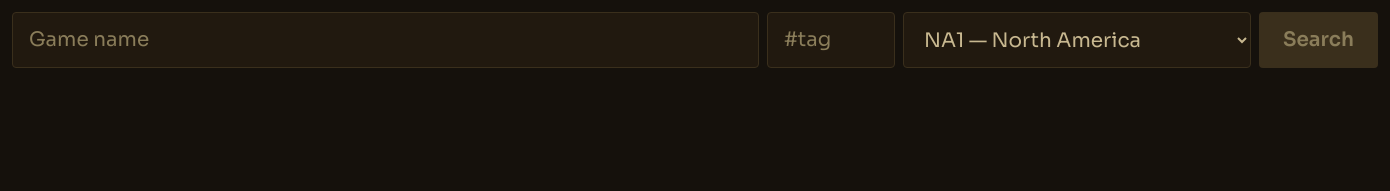
Test: <SearchBar /> › renders suggestions with tag lines once the debounced query resolves
Type "Fak" into the dropdown labelled "Game name".
click(385, 40); type("Fak")  # box [12,12,759,68]
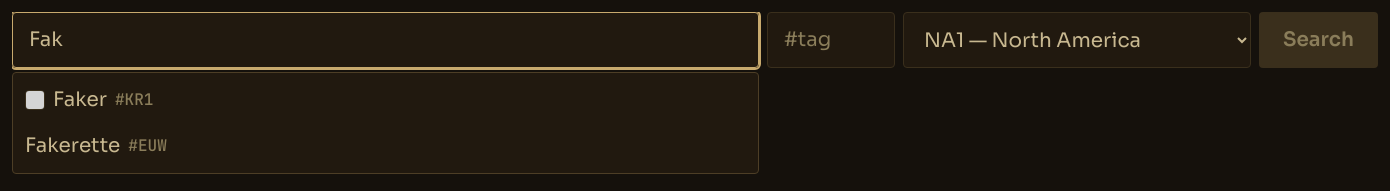
Expected: the option named "Faker#KR1" is shown, [25,87,153,112]
Expected: the option named "Fakerette#EUW" is shown, [25,133,167,158]
